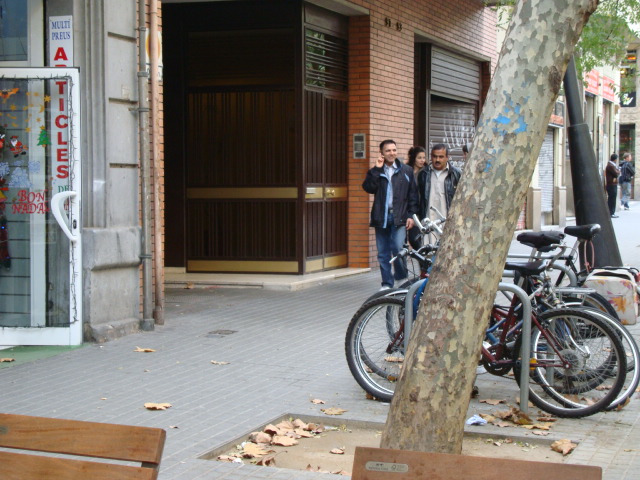deflection: (364, 140, 409, 188), (405, 147, 431, 186)
undeflect: (424, 143, 463, 189)
